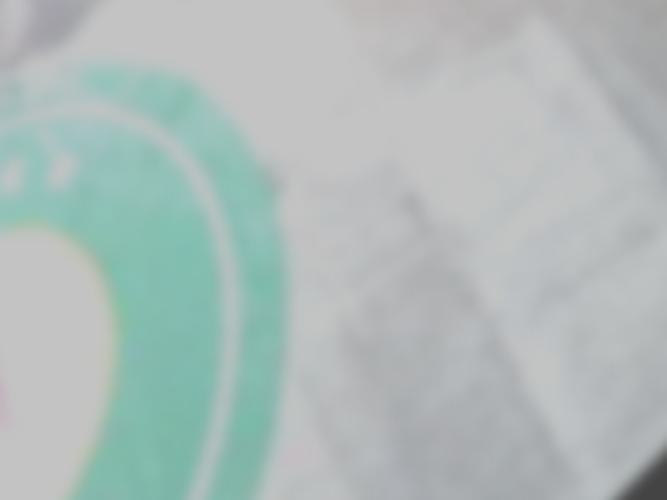Apron: (2, 205, 102, 498)
